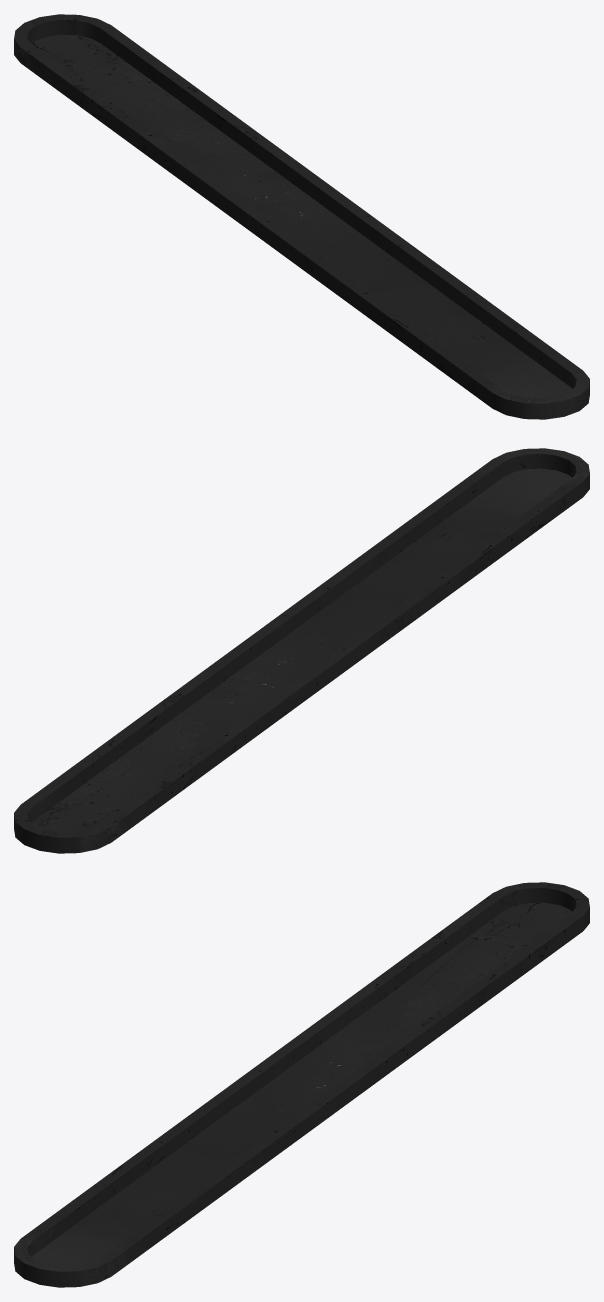
The model's file is F_OnOffSwitch_Frame_01.fbx.
The picture shows the model from 3 angles, top to bottom: view 1: azimuth 30°, elevation 25°; view 2: azimuth 150°, elevation 25°; view 3: azimuth 330°, elevation 25°; orthographic projection.
Parts seen in each view (by area): view 1: F_OnOffSwitch_Frame_01; view 2: F_OnOffSwitch_Frame_01; view 3: F_OnOffSwitch_Frame_01.
Part boxes in pixels (left/top/right/bottom): F_OnOffSwitch_Frame_01: left=14, top=14, right=589, bottom=419; F_OnOffSwitch_Frame_01: left=14, top=448, right=589, bottom=853; F_OnOffSwitch_Frame_01: left=14, top=882, right=589, bottom=1287.
Bounding box in the file's own units: 30 × 5 × 300.
1 material, 1 textured.
